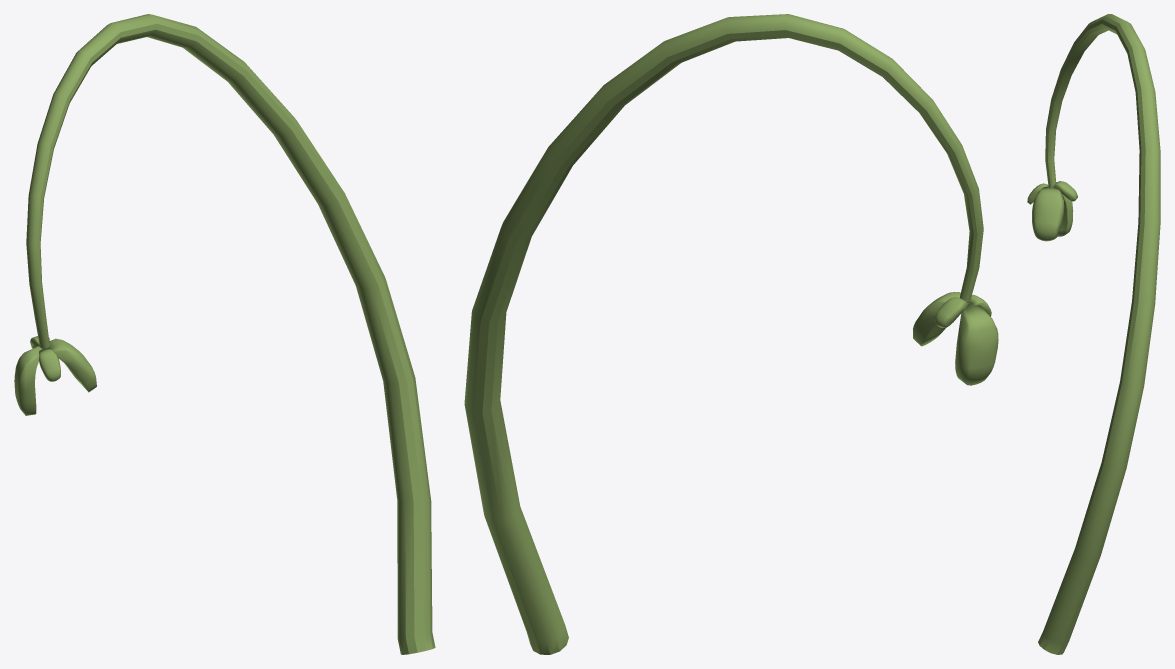
File: Glowing Plant Tall 1.fbx
3 renders of one model, left to right at view 1: azimuth 30°, elevation 25°; view 2: azimuth 150°, elevation 25°; view 3: azimuth 270°, elevation 25°, orthographic. The views are drawn at different scales.
Visible parts, largest first — view 1: pCylinder10; view 2: pCylinder10; view 3: pCylinder10.
Part boxes in pixels (<box>): pCylinder10: <box>14,14,435,654</box>; pCylinder10: <box>464,14,998,654</box>; pCylinder10: <box>1027,14,1160,654</box>.
Size of the model in its own units: 2.25 by 3.28 by 0.7475.
